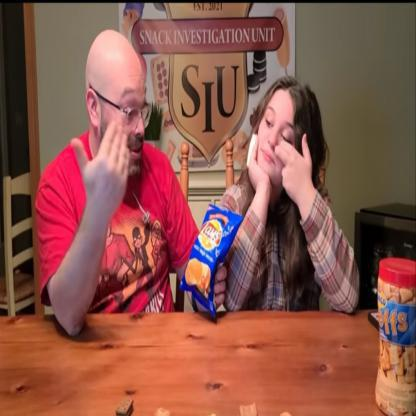indian_magic_masala: (181, 205, 235, 318)
